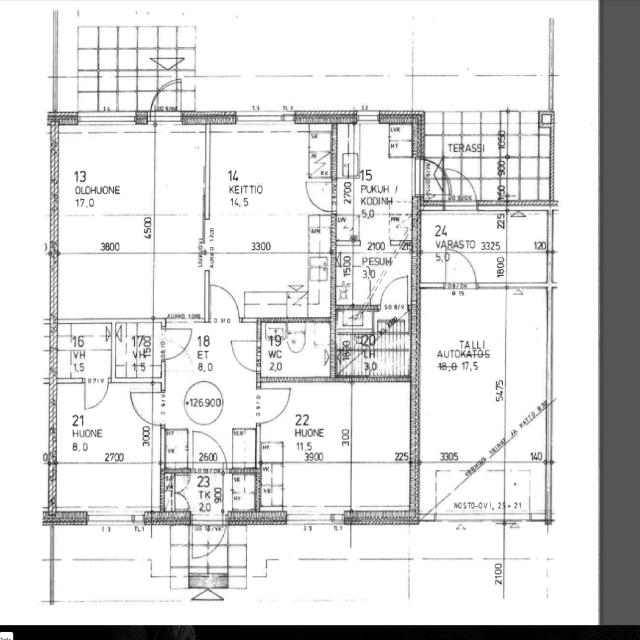door: (206, 280, 242, 324), (255, 385, 292, 426), (445, 249, 478, 291), (377, 273, 411, 312), (161, 324, 194, 364), (191, 430, 227, 466), (151, 79, 182, 120), (229, 337, 261, 373), (127, 389, 157, 425), (304, 177, 334, 213), (82, 378, 110, 412), (203, 519, 227, 557), (172, 473, 192, 494), (173, 488, 191, 511)
window: (73, 111, 143, 135), (232, 110, 296, 132), (84, 509, 140, 529), (285, 511, 337, 529), (494, 394, 510, 441), (152, 424, 166, 466), (354, 110, 382, 125), (476, 280, 508, 293), (505, 516, 533, 528)
zone: (53, 127, 206, 319), (205, 124, 330, 315), (260, 382, 414, 518), (417, 287, 508, 473), (55, 384, 158, 518), (333, 120, 418, 234), (257, 319, 336, 385), (418, 211, 510, 264), (335, 248, 413, 308), (54, 322, 113, 382), (112, 321, 164, 384), (337, 342, 412, 380), (503, 462, 550, 521), (174, 472, 226, 518), (374, 276, 410, 330), (335, 307, 375, 348), (222, 472, 258, 516), (190, 428, 227, 466), (374, 305, 411, 341), (164, 426, 192, 471), (420, 252, 446, 288)
